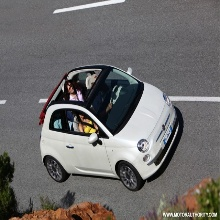no damage: (38, 65, 183, 192)
